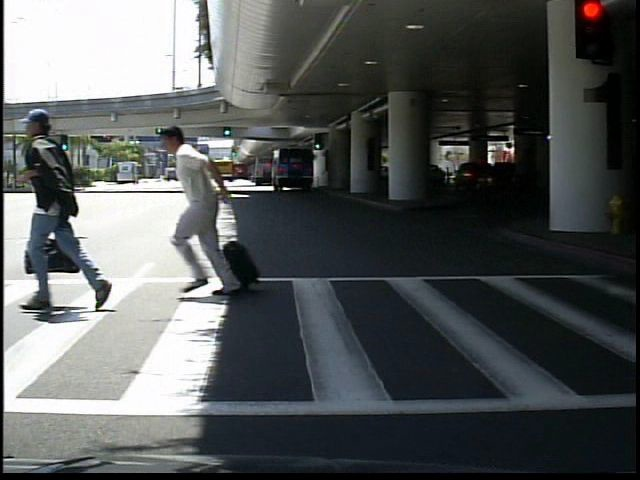person: (29, 108, 119, 316), (169, 118, 246, 297)
